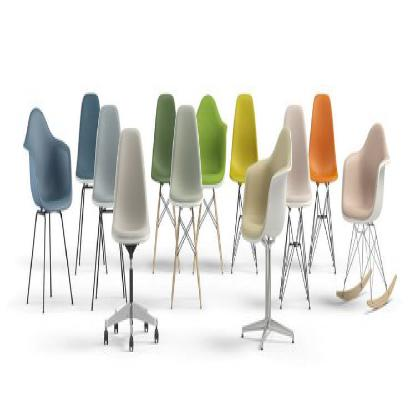chair: (23, 93, 76, 322), (341, 116, 398, 324), (112, 125, 160, 365)
